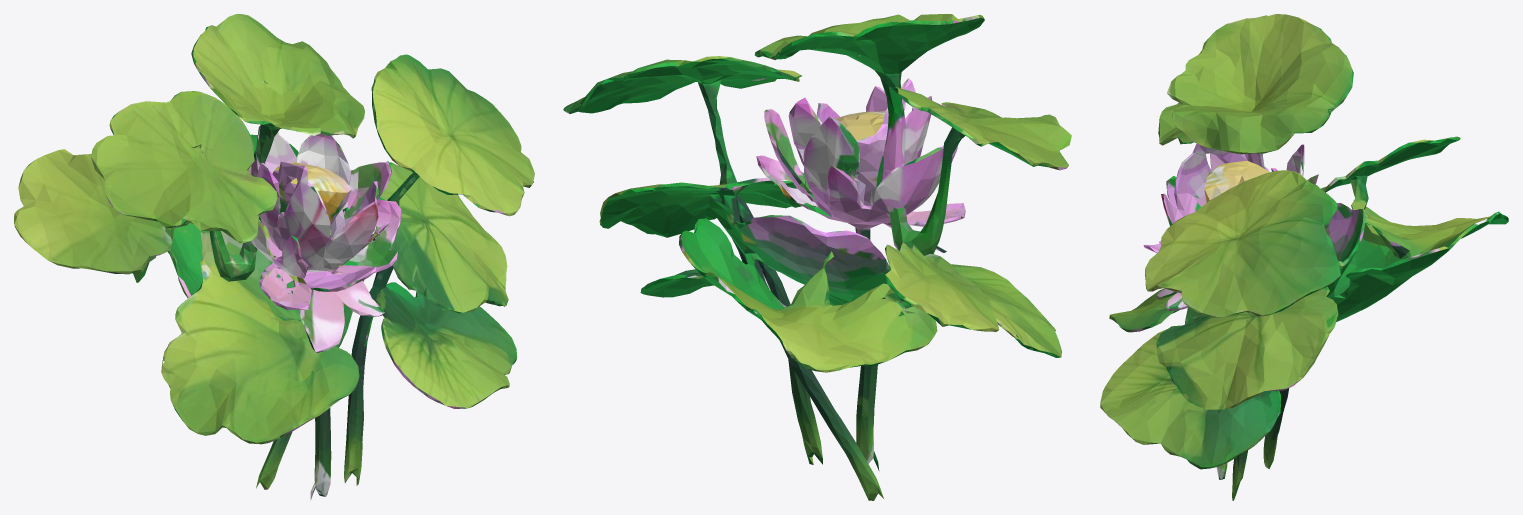
File: lotus.glb
The picture shows the model from 3 angles, left to right: view 1: azimuth 30°, elevation 25°; view 2: azimuth 150°, elevation 25°; view 3: azimuth 270°, elevation 25°; orthographic projection. The views are drawn at different scales.
Visible parts, largest first — view 1: tmpi_uyeir0.ply; view 2: tmpi_uyeir0.ply; view 3: tmpi_uyeir0.ply.
Part boxes in pixels (box(x1,y1,x2,y2)): tmpi_uyeir0.ply: box(14, 14, 534, 500); tmpi_uyeir0.ply: box(563, 14, 1071, 500); tmpi_uyeir0.ply: box(1100, 14, 1508, 500).
Bounding box in the file's own units: 1.99 × 1.99 × 1.73.
1 material, 1 textured.
